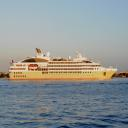cruises: (8, 49, 122, 83)
